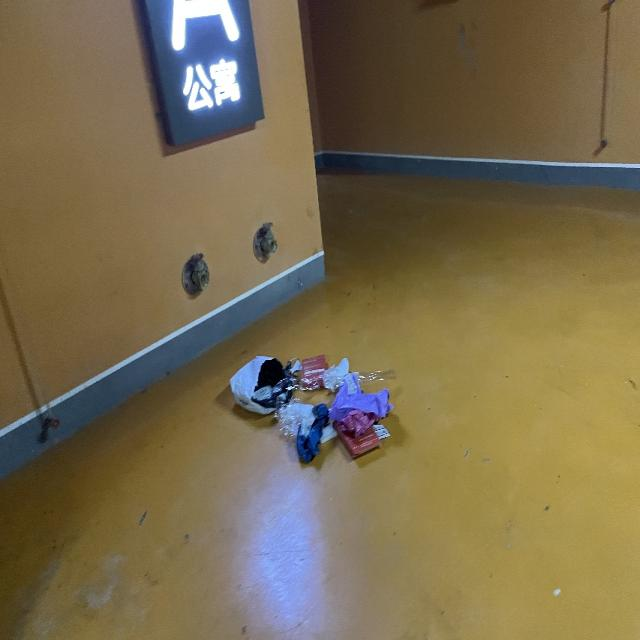garbage: (229, 353, 393, 464)
